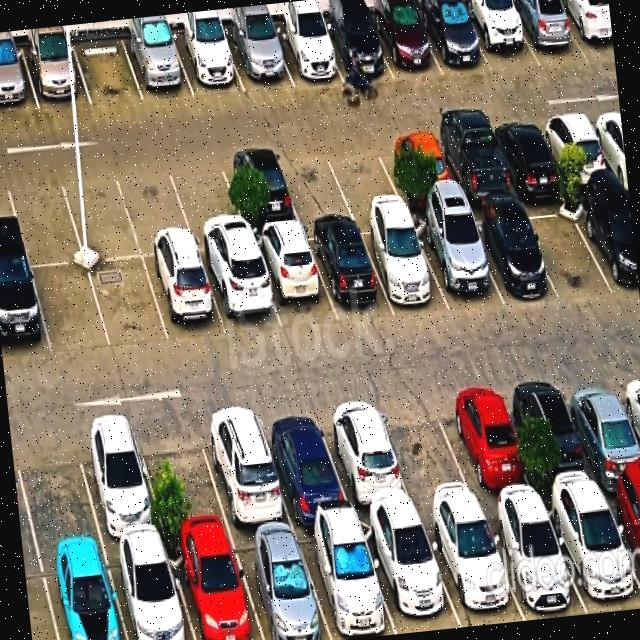empty: (373, 388, 479, 514), (134, 417, 231, 540), (10, 425, 102, 553), (518, 194, 614, 296), (166, 154, 250, 252), (58, 166, 141, 262), (4, 171, 84, 266), (116, 162, 196, 257), (88, 258, 169, 349), (31, 264, 110, 356), (274, 143, 354, 222), (323, 138, 404, 214), (72, 36, 143, 105)
occupied: (481, 502, 587, 620), (437, 381, 537, 506), (196, 404, 293, 532), (420, 508, 524, 627), (542, 491, 640, 614), (315, 397, 416, 516), (295, 521, 396, 640), (359, 517, 461, 634), (507, 374, 602, 498), (256, 404, 352, 525), (72, 420, 165, 544), (229, 530, 331, 640), (166, 535, 263, 640), (559, 370, 640, 490), (410, 212, 504, 311), (462, 206, 556, 304), (250, 227, 337, 331), (304, 221, 393, 321), (357, 217, 449, 313), (105, 541, 194, 640), (39, 547, 126, 640), (143, 253, 226, 343), (199, 248, 282, 336), (572, 189, 639, 294), (430, 125, 515, 205), (219, 148, 301, 230), (377, 131, 459, 205), (487, 117, 565, 193), (460, 0, 540, 74), (537, 111, 614, 186), (368, 5, 443, 81), (505, 0, 588, 67), (415, 3, 492, 75), (318, 14, 394, 83), (170, 30, 245, 97), (0, 264, 51, 362), (122, 32, 194, 101), (21, 41, 91, 110), (269, 22, 343, 86), (224, 26, 293, 91), (602, 485, 640, 585), (556, 0, 614, 61), (0, 46, 39, 114)
